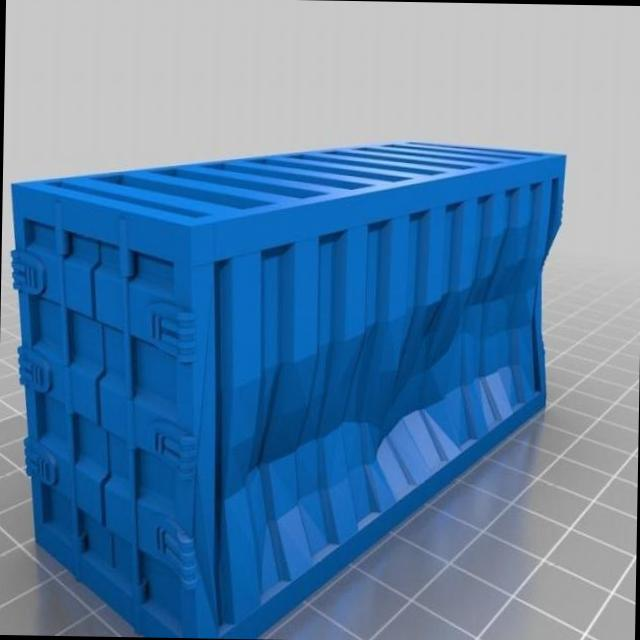Deframe_or_Dent: (182, 158, 562, 635)
